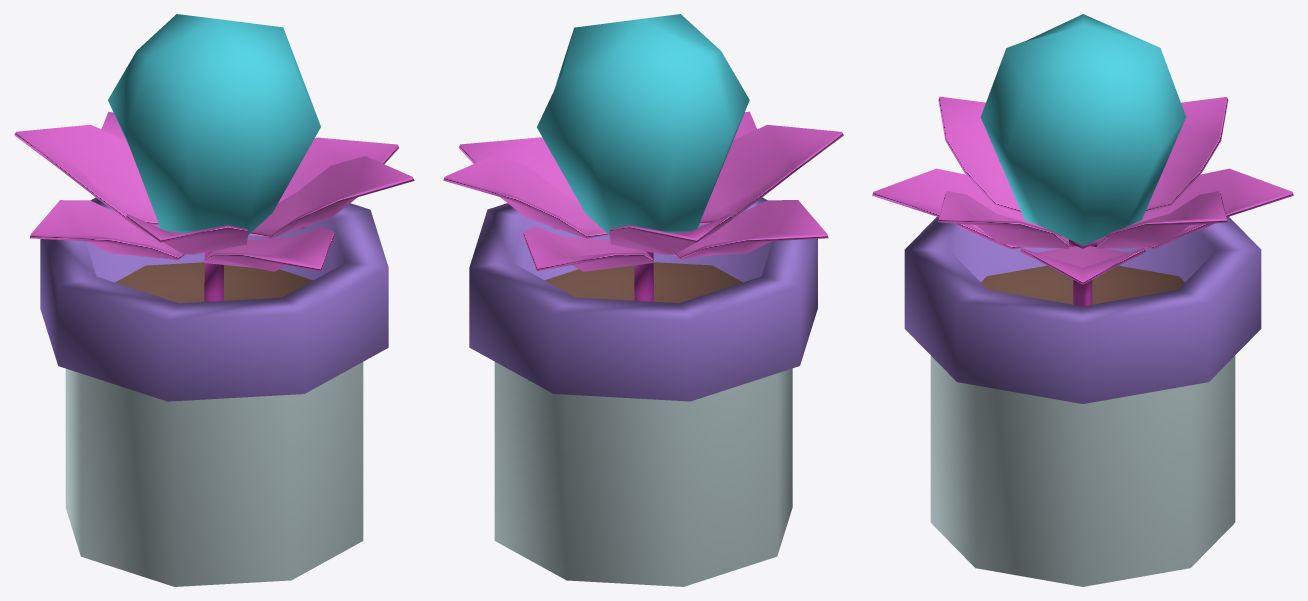
File: Plant4 lv2.fbx
3 views of the same model, side by side, from view 1: azimuth 30°, elevation 25°; view 2: azimuth 150°, elevation 25°; view 3: azimuth 270°, elevation 25° (orthographic).
Visible parts, largest first — view 1: Plant4_lv2; view 2: Plant4_lv2; view 3: Plant4_lv2.
Boxes of the visible parts, x1,y1,x2,y2 form: Plant4_lv2: (14,14,414,586); Plant4_lv2: (443,14,843,586); Plant4_lv2: (872,14,1293,586).
Bounding box in the file's own units: 68.69 × 89.61 × 68.69.
